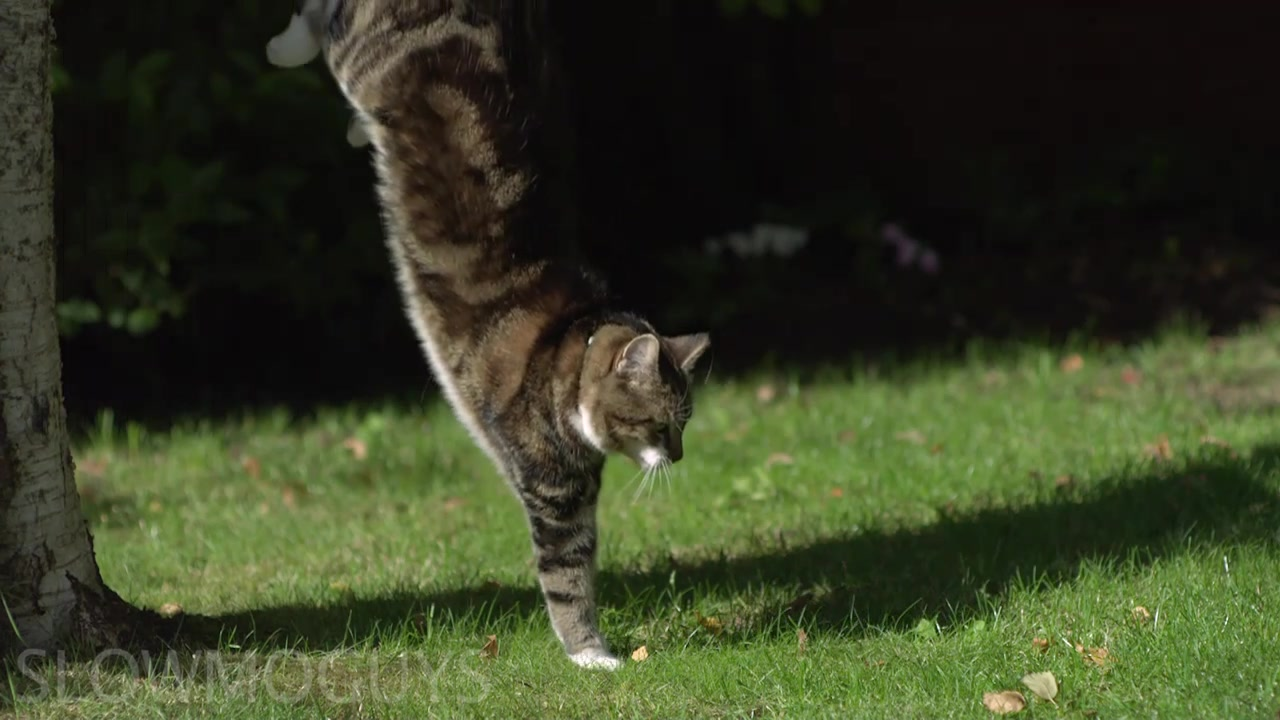cat: (266, 3, 717, 674)
